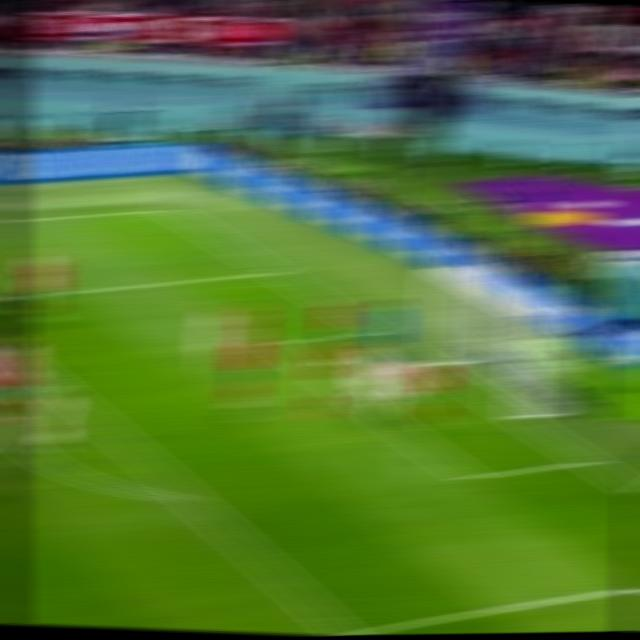bigarea_bottom_inner: (324, 615, 366, 635)
bigarea_top_outter: (256, 259, 291, 281)
bottom_arc_area_intersection: (170, 483, 209, 513)
corner: (150, 200, 187, 217)
smallarea_bottom_inner: (448, 459, 490, 493)
smallarea_bottom_outter: (568, 447, 605, 474)
smallarea_top_inner: (255, 332, 290, 355)
smallarea_top_outter: (358, 319, 391, 342)
top_arc_area_intersection: (36, 373, 69, 394)
